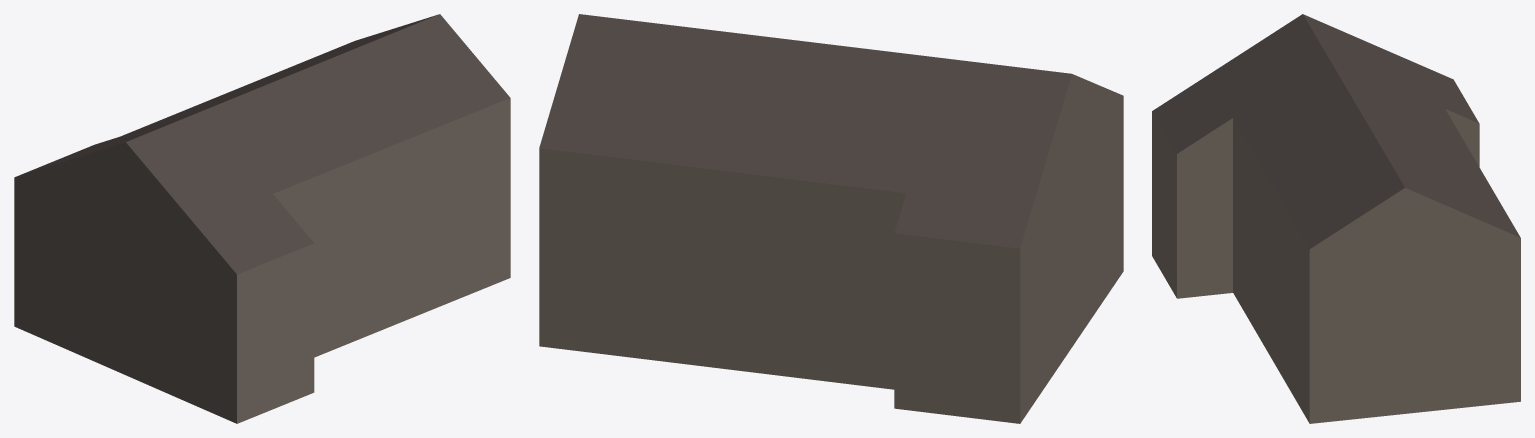
3 views of the same model, side by side, from view 1: azimuth 30°, elevation 25°; view 2: azimuth 150°, elevation 25°; view 3: azimuth 270°, elevation 25° (orthographic). The views are drawn at different scales.
Parts seen in each view (by area): view 1: HP-w1367350995; view 2: HP-w1367350995; view 3: HP-w1367350995.
Part boxes in pixels (<box>): HP-w1367350995: <box>14,14,510,423</box>; HP-w1367350995: <box>539,14,1123,423</box>; HP-w1367350995: <box>1152,14,1520,423</box>.
Size of the model in its own units: 26.62 by 14.06 by 20.78.
